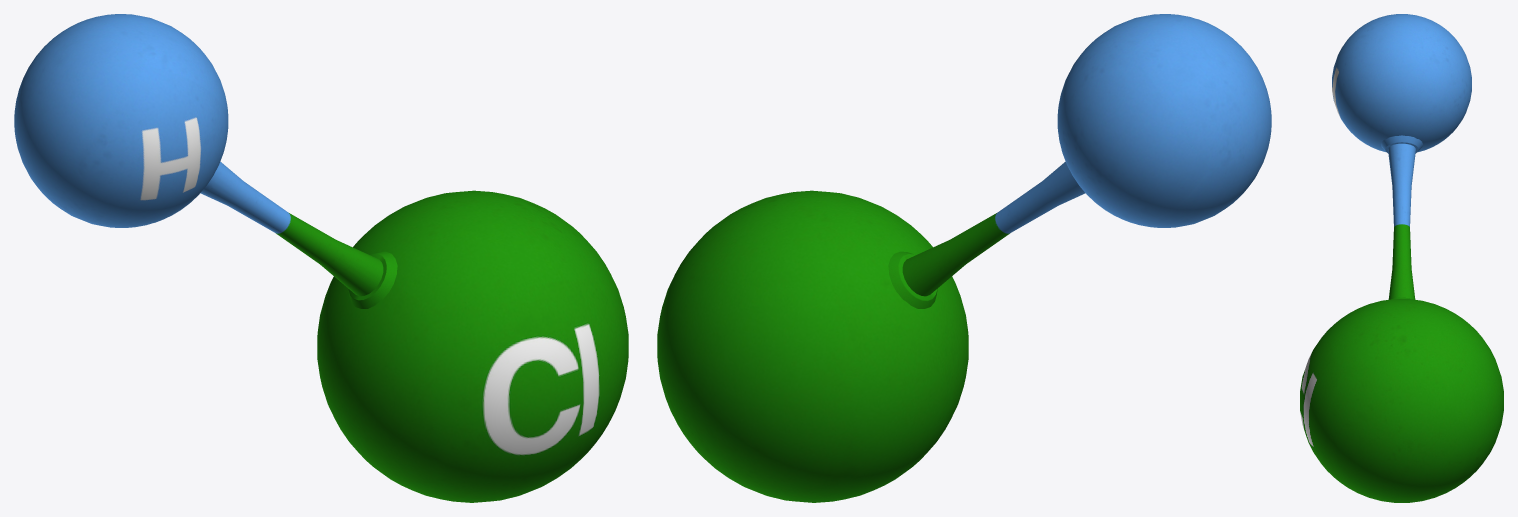
3 renders of one model, left to right at view 1: azimuth 30°, elevation 25°; view 2: azimuth 150°, elevation 25°; view 3: azimuth 270°, elevation 25°, orthographic. The views are drawn at different scales.
Parts seen in each view (by area): view 1: Cl, O3, brat_7, Cylinder_2_4; view 2: Cl, O3, brat_7, Cylinder_2_4; view 3: Cl, O3, brat_7, Cylinder_1_3.
Part boxes in pixels (box(x1,y1,x2,y2)): Cl: box(317, 190, 628, 502); O3: box(14, 14, 228, 227); brat_7: box(200, 162, 383, 296); Cylinder_2_4: box(348, 251, 397, 308); Cl: box(657, 190, 968, 502); O3: box(1057, 14, 1271, 227); brat_7: box(902, 162, 1085, 296); Cylinder_2_4: box(888, 251, 937, 308); Cl: box(1300, 299, 1503, 502); O3: box(1332, 14, 1471, 151); brat_7: box(1388, 143, 1415, 299); Cylinder_1_3: box(1381, 135, 1422, 153).
Size of the model in its own units: 499 by 452 by 232.
Materials: 2 (2 with a texture image).
